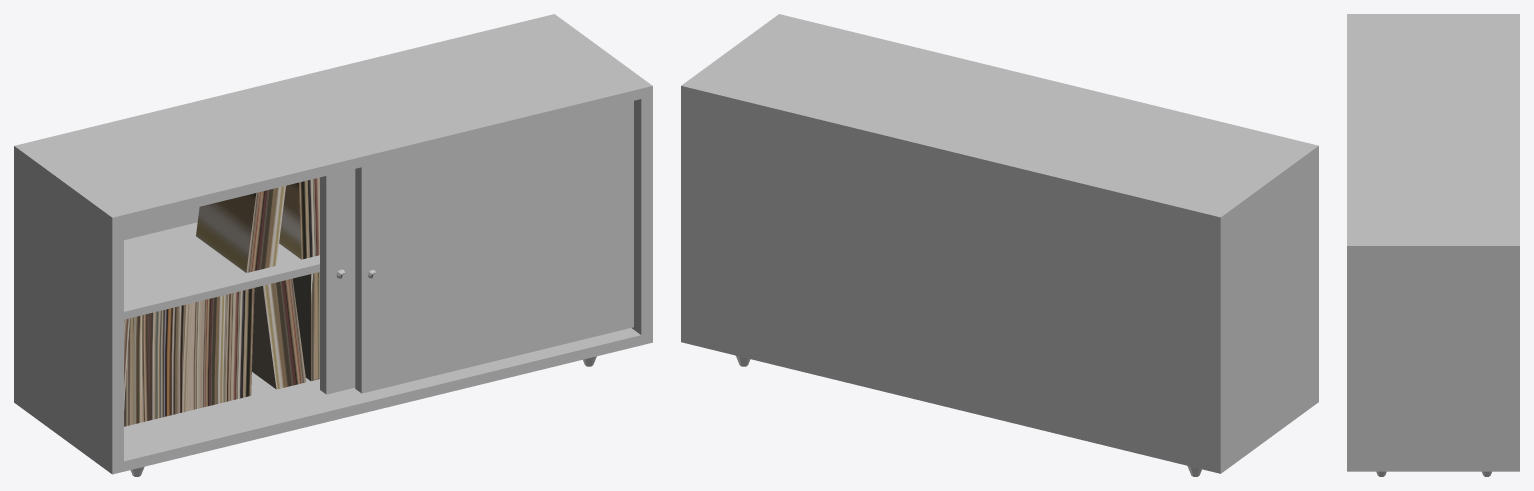
The model's file is Cabinet.fbx.
3 renders of one model, left to right at view 1: azimuth 30°, elevation 25°; view 2: azimuth 150°, elevation 25°; view 3: azimuth 270°, elevation 25°, orthographic. The views are drawn at different scales.
Visible parts, largest first — view 1: Cube.039, Cube.040; view 2: Cube.039; view 3: Cube.039.
Part boxes in pixels (left/top/right/bottom): Cube.039: left=14, top=14, right=652, bottom=476; Cube.040: left=124, top=177, right=319, bottom=426; Cube.039: left=681, top=14, right=1318, bottom=476; Cube.039: left=1347, top=14, right=1519, bottom=476.
Bounding box in the file's own units: 174 × 86.98 × 54.76.
